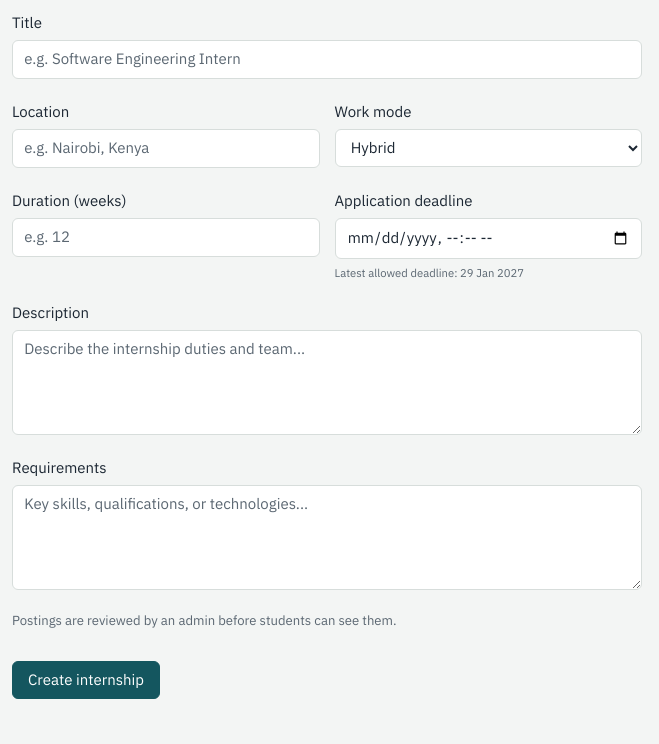
Test: InternshipForm Component › validates required fields on submit
The image size is (659, 744).
Step 1. Click the button "Create internship" → [86, 680], box [12,661,160,699]
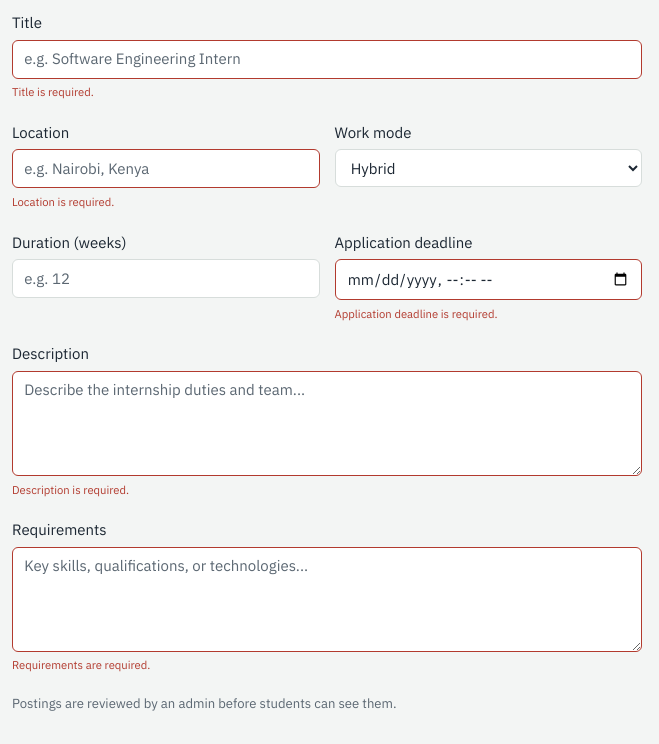
Expected: the text "Title is required." is shown, [12,84,94,99]
Expected: the text "Location is required." is shown, [12,194,114,209]
Expected: the text "Application deadline is required." is shown, [334,306,498,321]
